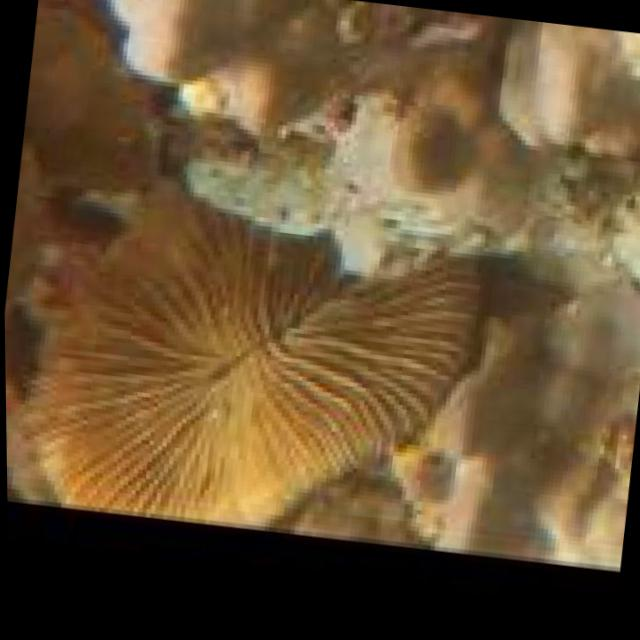Healthy Coral: (7, 208, 491, 552)
